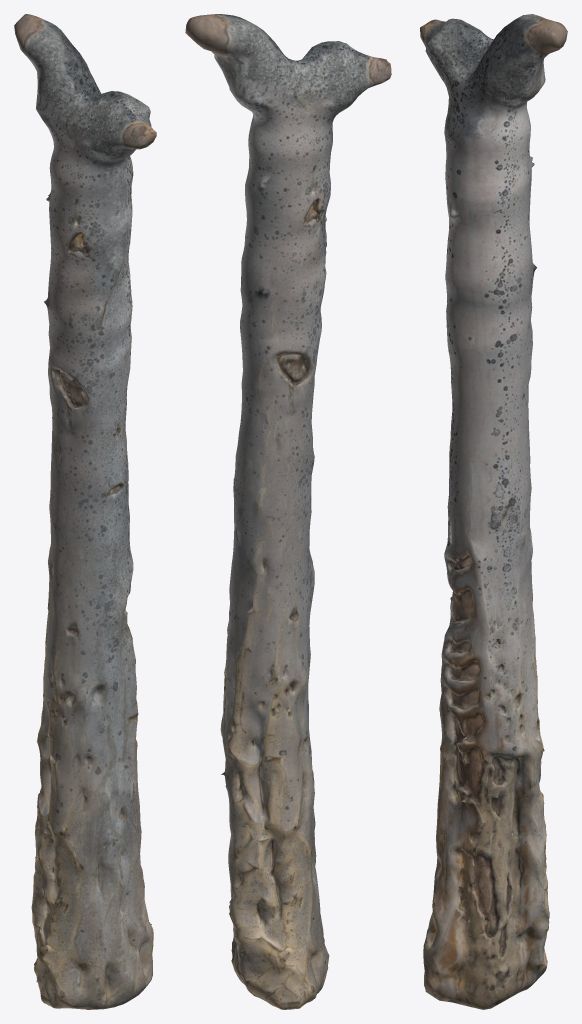
File: TreeDead.glb
The picture shows the model from 3 angles, left to right: view 1: azimuth 90°, elevation 25°; view 2: azimuth 150°, elevation 25°; view 3: azimuth 270°, elevation 25°; orthographic projection. The views are drawn at different scales.
Parts seen in each view (by area): view 1: dead_quiver_trunk_LOD0; view 2: dead_quiver_trunk_LOD0; view 3: dead_quiver_trunk_LOD0.
Part boxes in pixels (x1=…): dead_quiver_trunk_LOD0: x1=14, y1=14, x2=156, y2=1009; dead_quiver_trunk_LOD0: x1=185, y1=14, x2=391, y2=1009; dead_quiver_trunk_LOD0: x1=420, y1=14, x2=567, y2=1009.
Size of the model in its own units: 0.3065 by 1.99 by 0.268.
1 material, 1 textured.
